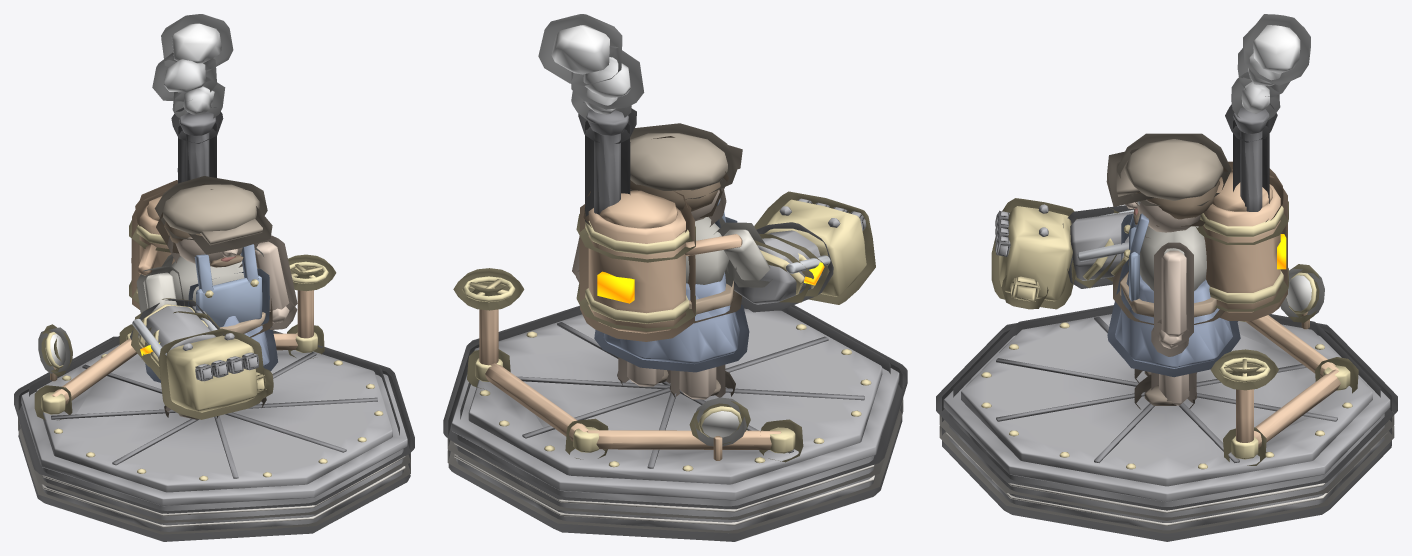
File: steam_brawler.glb
The picture shows the model from 3 angles, left to right: view 1: azimuth 30°, elevation 25°; view 2: azimuth 150°, elevation 25°; view 3: azimuth 270°, elevation 25°; orthographic projection. The views are drawn at different scales.
Parts seen in each view (by area): view 1: M_SteamBrawler, M_Body, M_SteamBrawler_Outline, M_Body_Outline, M_Arm, M_Arm_Outline; view 2: M_SteamBrawler, M_Body, M_SteamBrawler_Outline, M_Body_Outline, M_Arm, M_Arm_Outline; view 3: M_SteamBrawler, M_Body, M_SteamBrawler_Outline, M_Body_Outline, M_Arm, M_Arm_Outline.
Part boxes in pixels (x1,y1,x2,y2): M_SteamBrawler: (21, 261, 407, 531); M_Body: (136, 23, 289, 419); M_SteamBrawler_Outline: (14, 254, 414, 541); M_Body_Outline: (129, 14, 297, 418); M_Arm: (132, 272, 266, 412); M_Arm_Outline: (130, 266, 273, 419); M_SteamBrawler: (451, 276, 899, 533); M_Body: (551, 25, 742, 399); M_SteamBrawler_Outline: (443, 268, 907, 541); M_Body_Outline: (538, 14, 749, 398); M_Arm: (724, 198, 866, 304); M_Arm_Outline: (714, 191, 875, 312); M_SteamBrawler: (943, 272, 1390, 530); M_Body: (1115, 25, 1300, 405); M_SteamBrawler_Outline: (936, 264, 1397, 541); M_Body_Outline: (1106, 14, 1310, 409); M_Arm: (995, 204, 1133, 302); M_Arm_Outline: (991, 198, 1133, 309).
Bounding box in the file's own units: 3.26 × 3.51 × 3.26.
